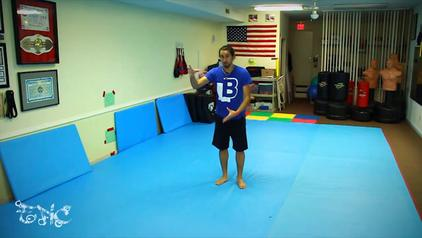stay: (373, 60, 400, 114)
